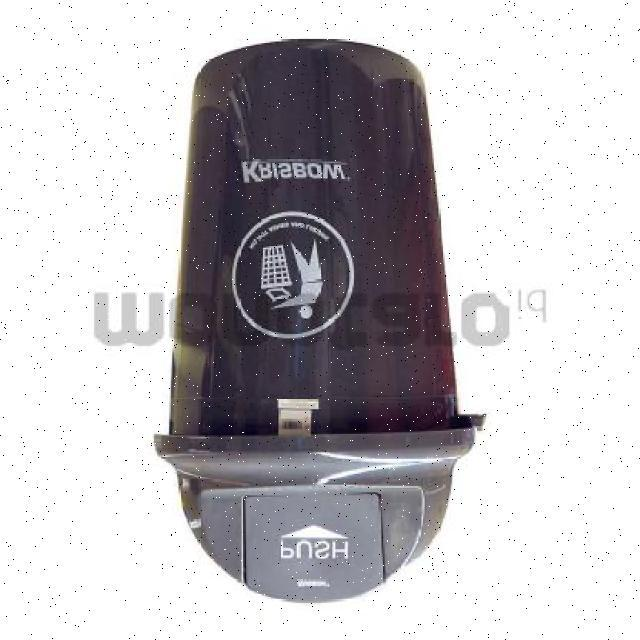garbage container: (126, 17, 497, 622)
